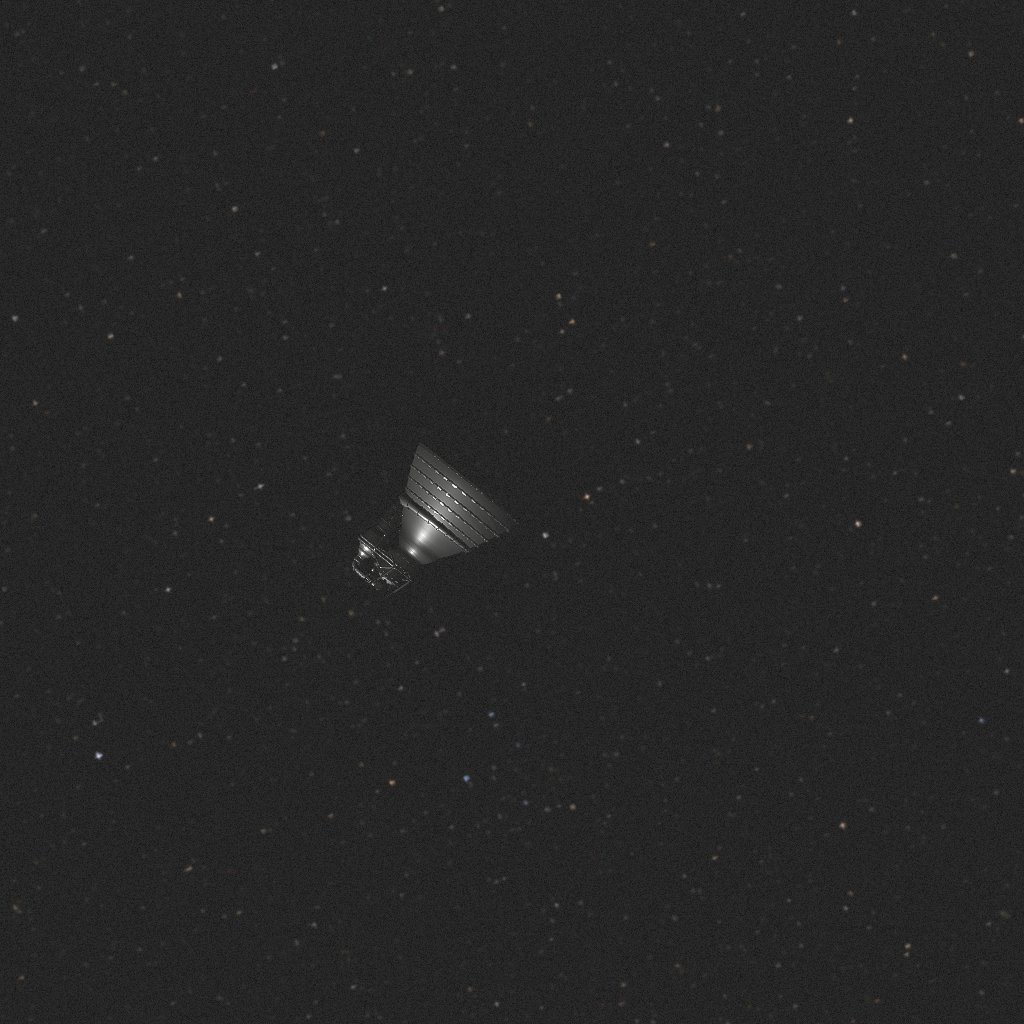debris: (348, 434, 528, 591)
